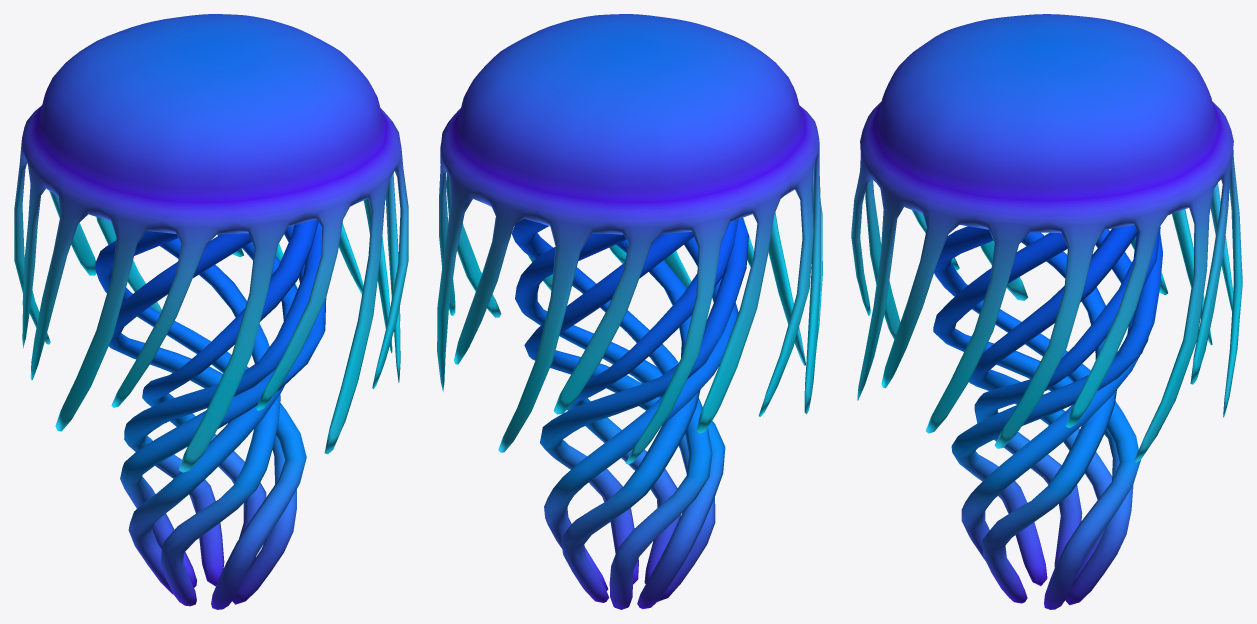
File: Plante Aqua B 1X1 F.fbx
The picture shows the model from 3 angles, left to right: view 1: azimuth 30°, elevation 25°; view 2: azimuth 150°, elevation 25°; view 3: azimuth 270°, elevation 25°; orthographic projection.
Parts seen in each view (by area): view 1: Cube.001, Cube.006; view 2: Cube.001, Cube.006; view 3: Cube.001, Cube.006.
Part boxes in pixels (x1,y1,x2,y2): Cube.001: [14, 14, 408, 472]; Cube.006: [95, 219, 326, 609]; Cube.001: [437, 14, 822, 464]; Cube.006: [511, 218, 748, 609]; Cube.001: [851, 14, 1242, 462]; Cube.006: [933, 225, 1162, 609].
Size of the model in its own units: 130 by 198 by 128.
2 materials, 2 textured.
